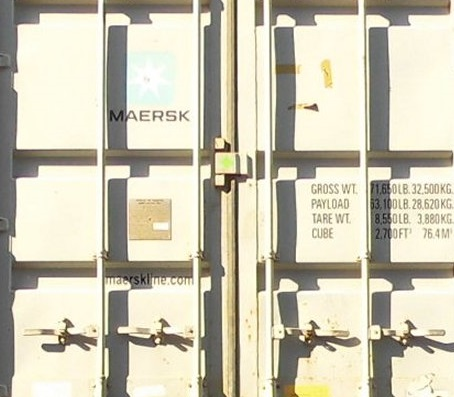container_door: (11, 4, 453, 395)
